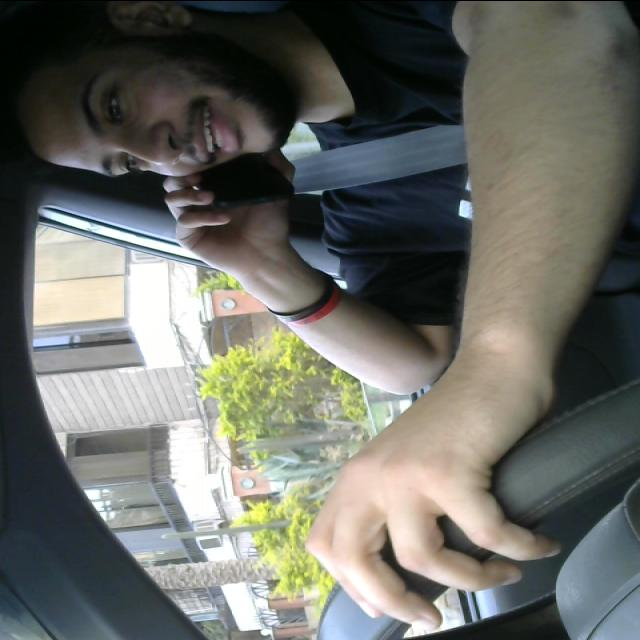mobile use: (160, 110, 298, 212)
